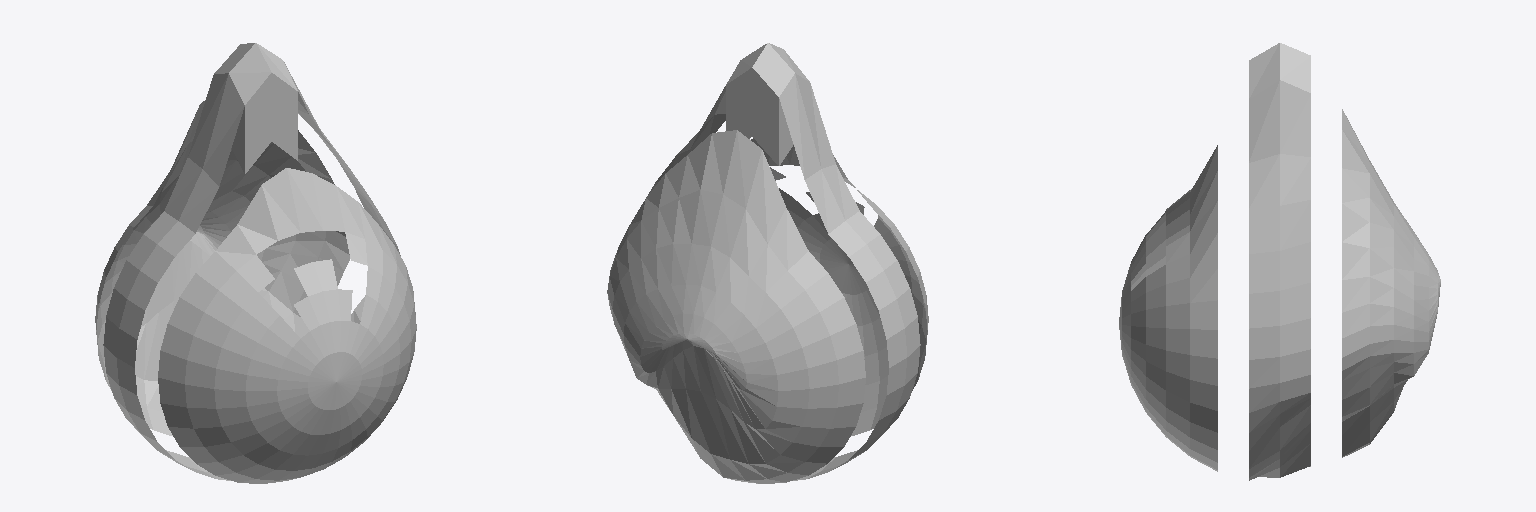
Rendered from light.obj.
3 renders of one model, left to right at view 1: azimuth 30°, elevation 25°; view 2: azimuth 150°, elevation 25°; view 3: azimuth 270°, elevation 25°, orthographic.
Parts seen in each view (by area): view 1: Sphere; view 2: Sphere; view 3: Sphere.
Boxes of the visible parts, box(x1,y1,x2,y2) form: Sphere: box(95, 43, 416, 483); Sphere: box(607, 43, 928, 483); Sphere: box(1119, 43, 1440, 480).
Bounding box in the file's own units: 1.39 × 2.03 × 1.39.